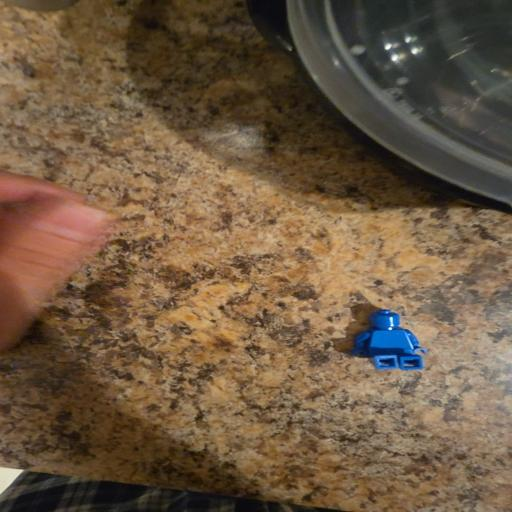Blue: (352, 310, 427, 370)
